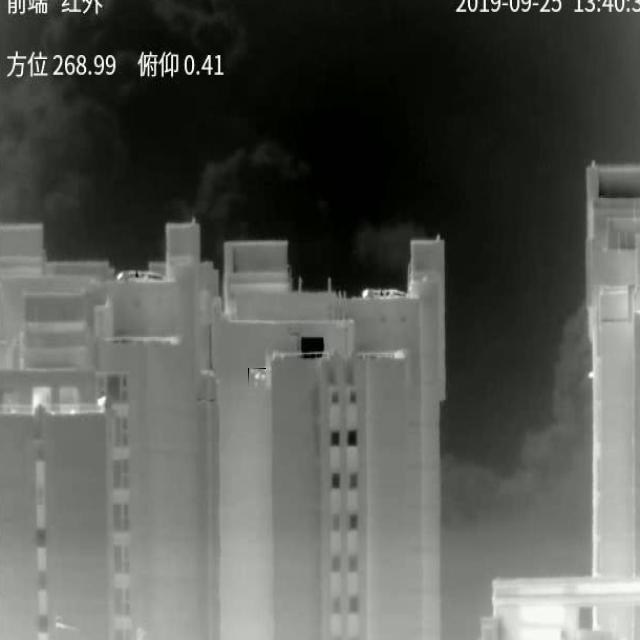drone: (249, 368, 266, 386)
